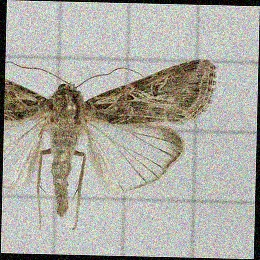Spodoptera litura: (3, 56, 216, 233)
